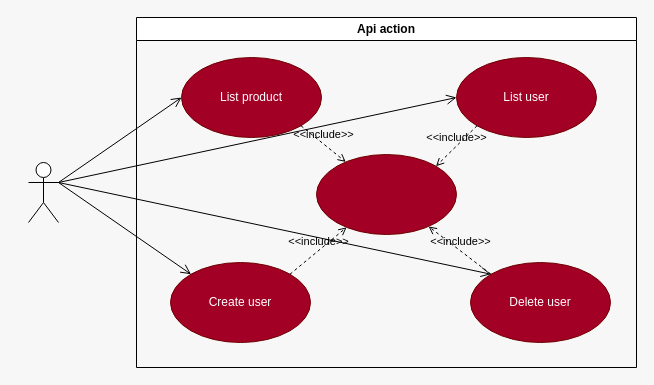
The diagram is 654 pixels wide and 385 high, and some of its shapes have lost their labels. Each missing label, with the box of its shape:
Authentification: (316, 154, 456, 234)
Customer: (28, 162, 58, 222)
